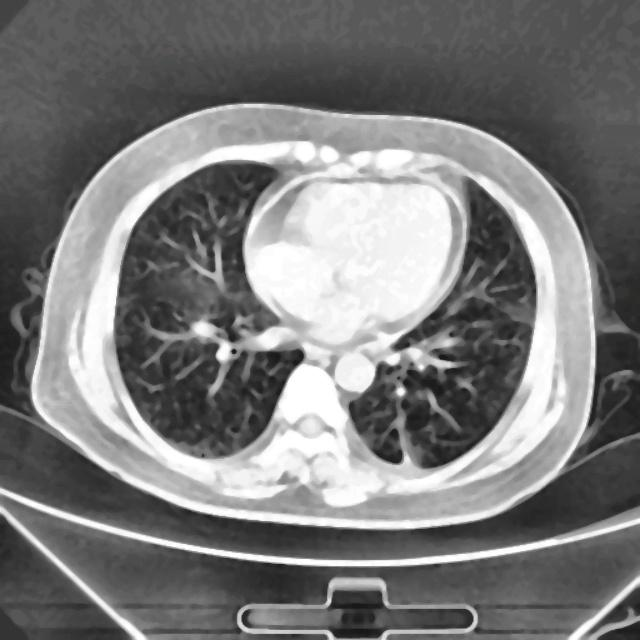covid: (27, 102, 610, 529)
